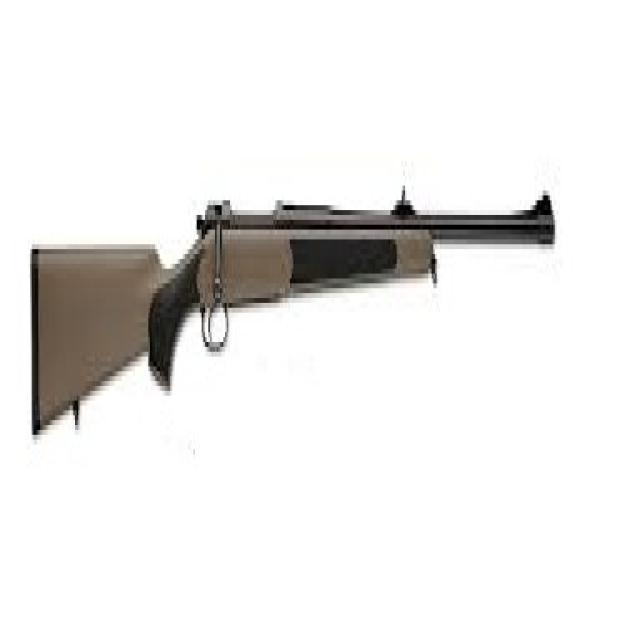rifle: (21, 159, 560, 451)
